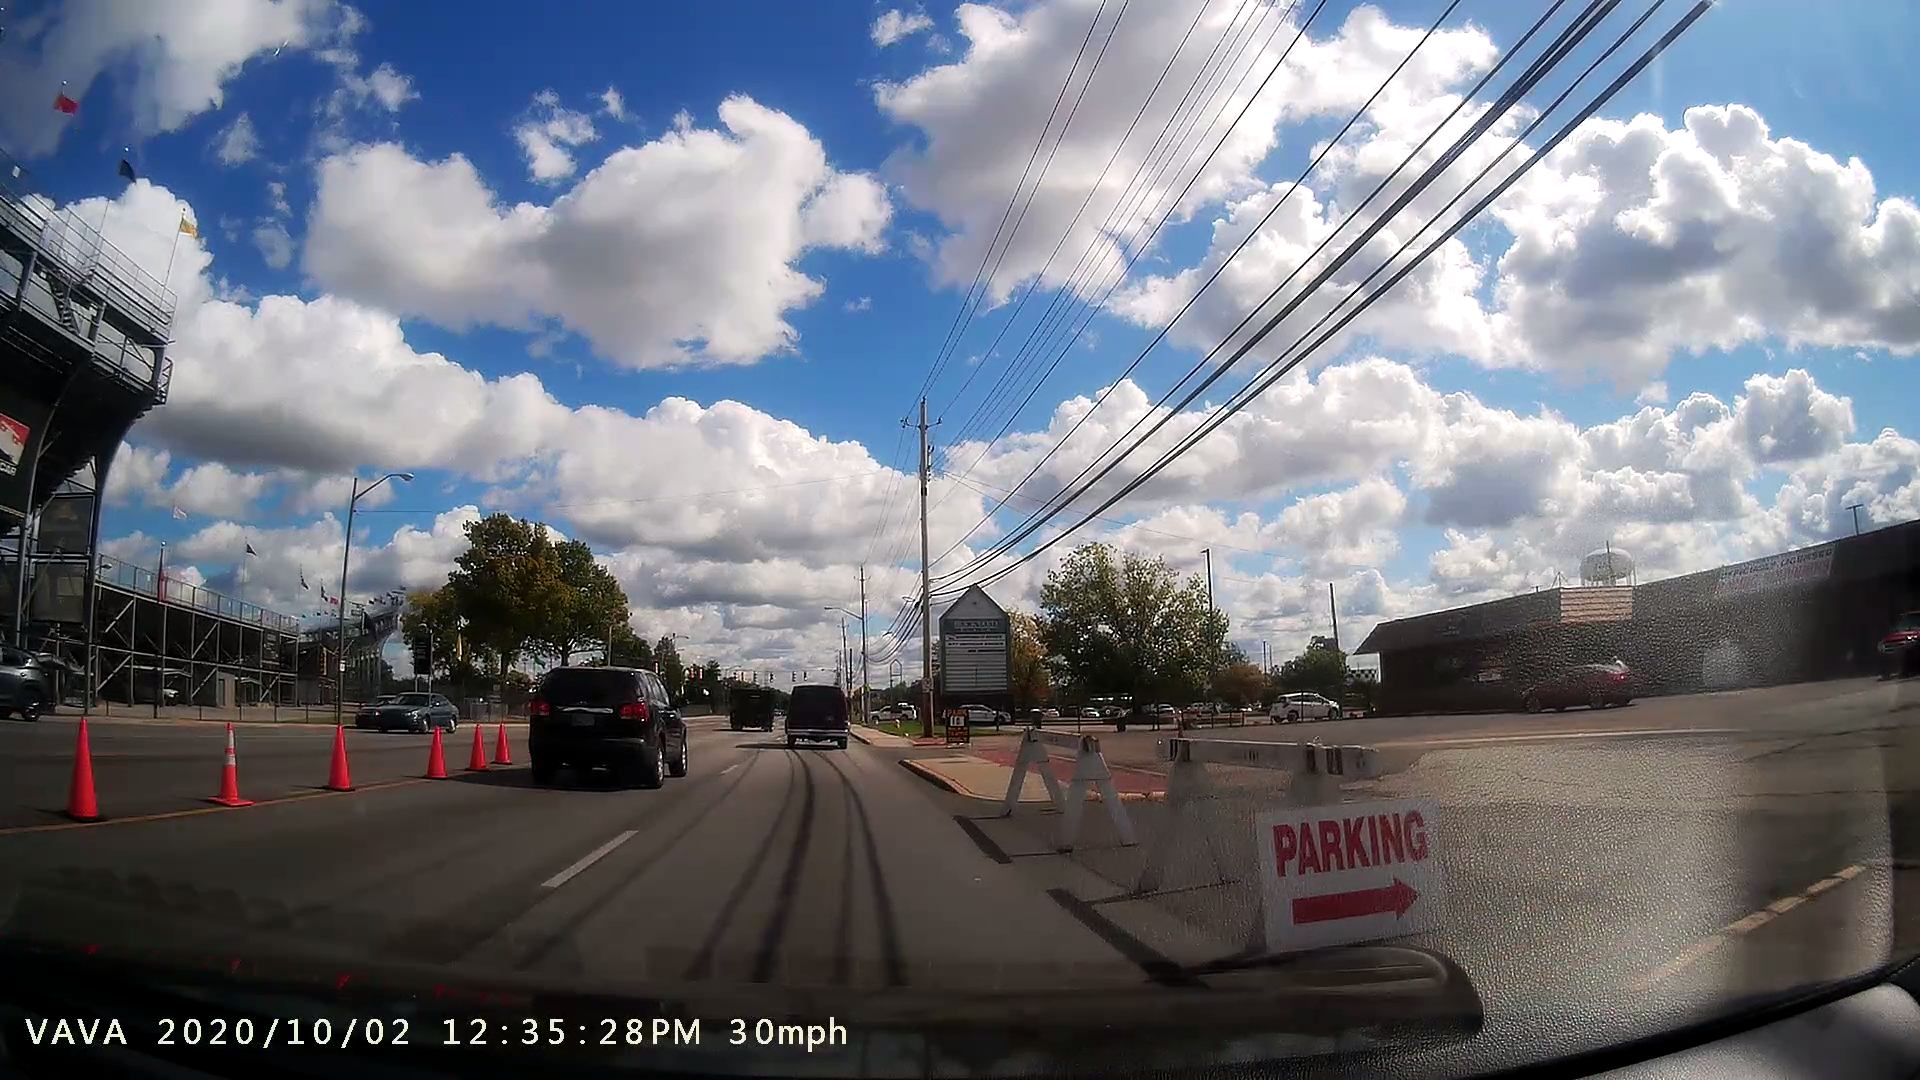const_barricade: (982, 713, 1149, 858)
const_cone: (49, 705, 128, 835), (196, 713, 268, 819), (313, 709, 360, 804), (414, 713, 458, 793), (468, 713, 491, 778), (496, 717, 517, 774)
